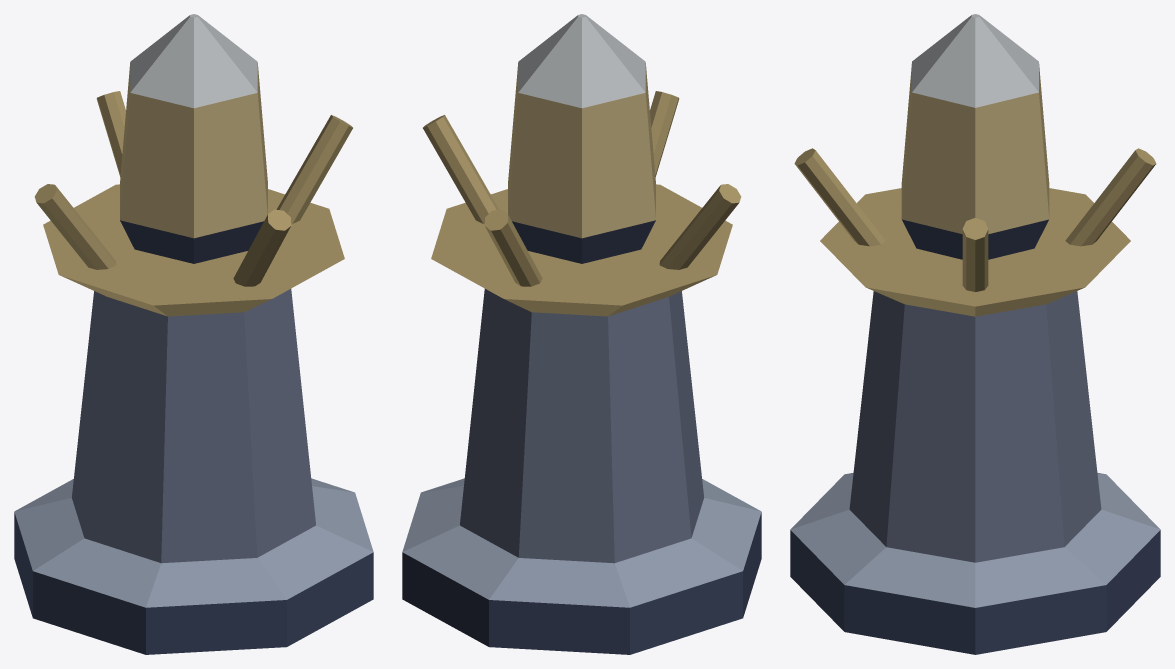
File: beacon-active.glb
The picture shows the model from 3 angles, left to right: view 1: azimuth 30°, elevation 25°; view 2: azimuth 150°, elevation 25°; view 3: azimuth 270°, elevation 25°; orthographic projection.
Parts seen in each view (by area): view 1: beacon-active__body; view 2: beacon-active__body; view 3: beacon-active__body.
Part boxes in pixels (box(x1,y1,x2,y2)): beacon-active__body: box(14, 14, 373, 654); beacon-active__body: box(402, 14, 761, 654); beacon-active__body: box(790, 14, 1160, 654).
Bounding box in the file's own units: 1 × 1.67 × 1.
